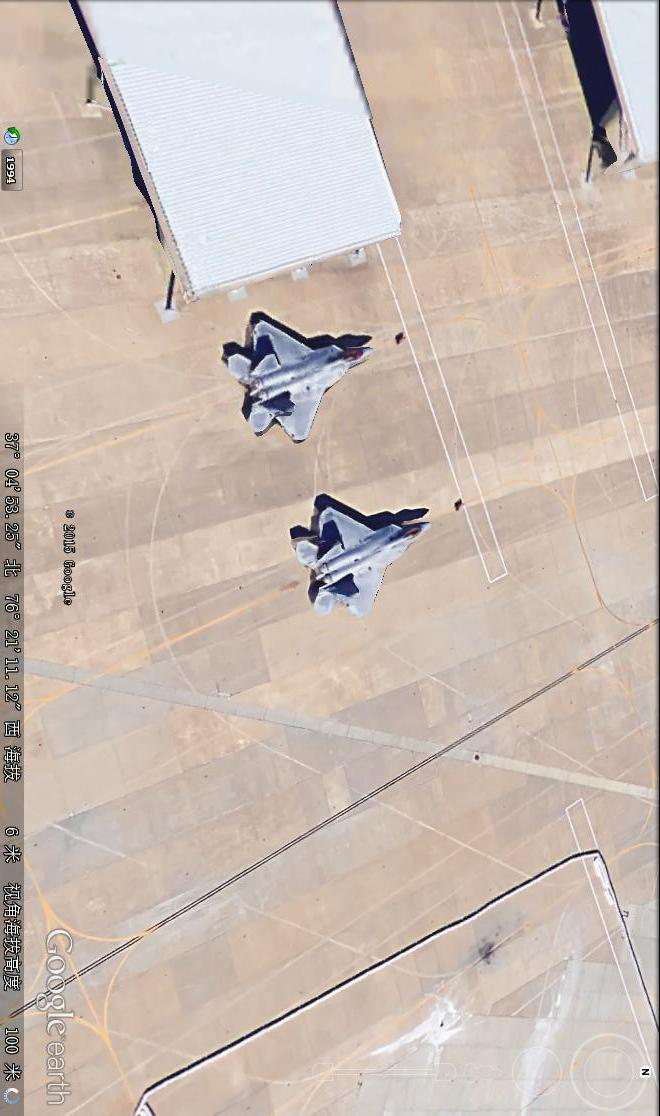F-22: (226, 308, 378, 445), (293, 496, 435, 623)
